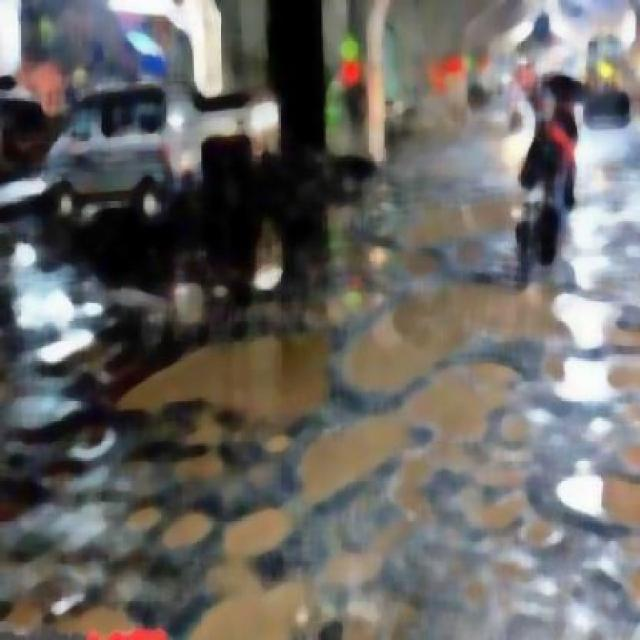Pothole: (352, 261, 626, 359), (139, 341, 335, 447), (558, 435, 638, 548)
